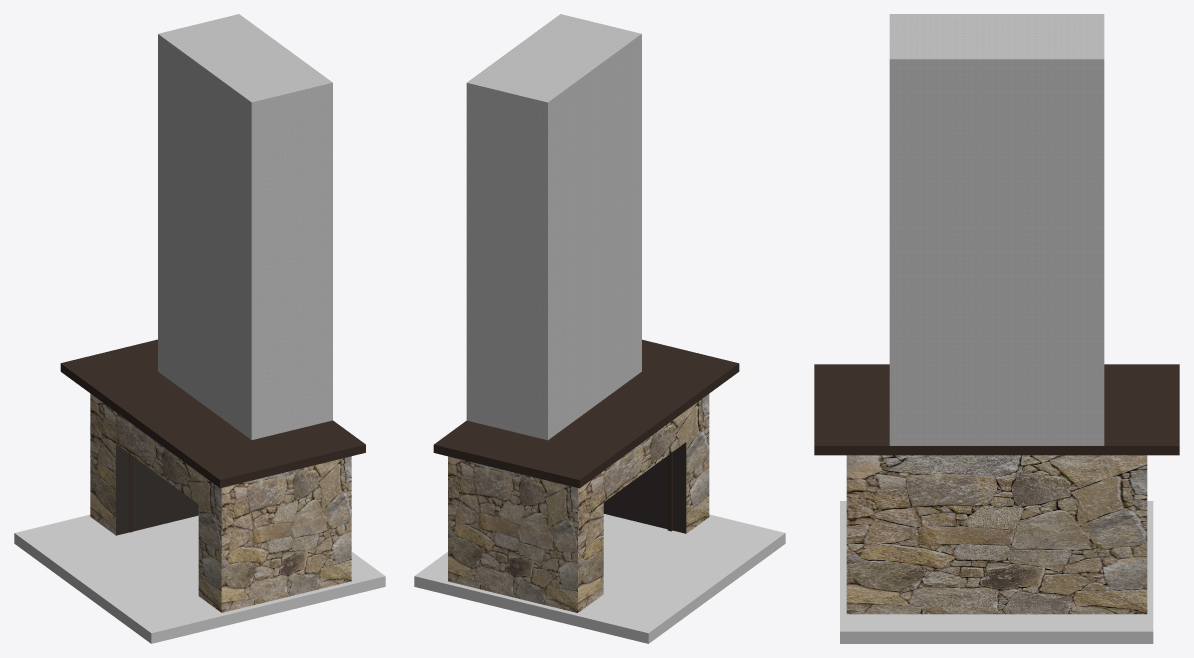
Rendered from chimney4.glb.
The picture shows the model from 3 angles, left to right: view 1: azimuth 30°, elevation 25°; view 2: azimuth 150°, elevation 25°; view 3: azimuth 270°, elevation 25°; orthographic projection. The views are drawn at different scales.
Parts seen in each view (by area): view 1: Casework 6 Casework 6 [271720], main_change, Cube, Casework 9 Casework 9 [273579], Object004; view 2: Casework 6 Casework 6 [271720], main_change, Cube, Casework 9 Casework 9 [273579], Object004; view 3: Casework 6 Casework 6 [271720], main_change, Casework 9 Casework 9 [273579], Cube.
Boxes of the visible parts, x1=… form: Casework 6 Casework 6 [271720]: x1=158, y1=14, x2=332, y2=439; main_change: x1=90, y1=393, x2=351, y2=612; Cube: x1=14, y1=514, x2=385, y2=643; Casework 9 Casework 9 [273579]: x1=60, y1=339, x2=365, y2=488; Object004: x1=116, y1=444, x2=198, y2=535; Casework 6 Casework 6 [271720]: x1=466, y1=14, x2=641, y2=440; main_change: x1=448, y1=394, x2=709, y2=612; Cube: x1=414, y1=514, x2=785, y2=643; Casework 9 Casework 9 [273579]: x1=433, y1=339, x2=739, y2=488; Object004: x1=603, y1=442, x2=686, y2=533; Casework 6 Casework 6 [271720]: x1=889, y1=14, x2=1104, y2=445; main_change: x1=846, y1=455, x2=1147, y2=614; Casework 9 Casework 9 [273579]: x1=814, y1=364, x2=1179, y2=455; Cube: x1=840, y1=501, x2=1153, y2=643.
Bounding box in the file's own units: 1.44 × 2.91 × 1.7.
Materials: 6 (2 with a texture image).
